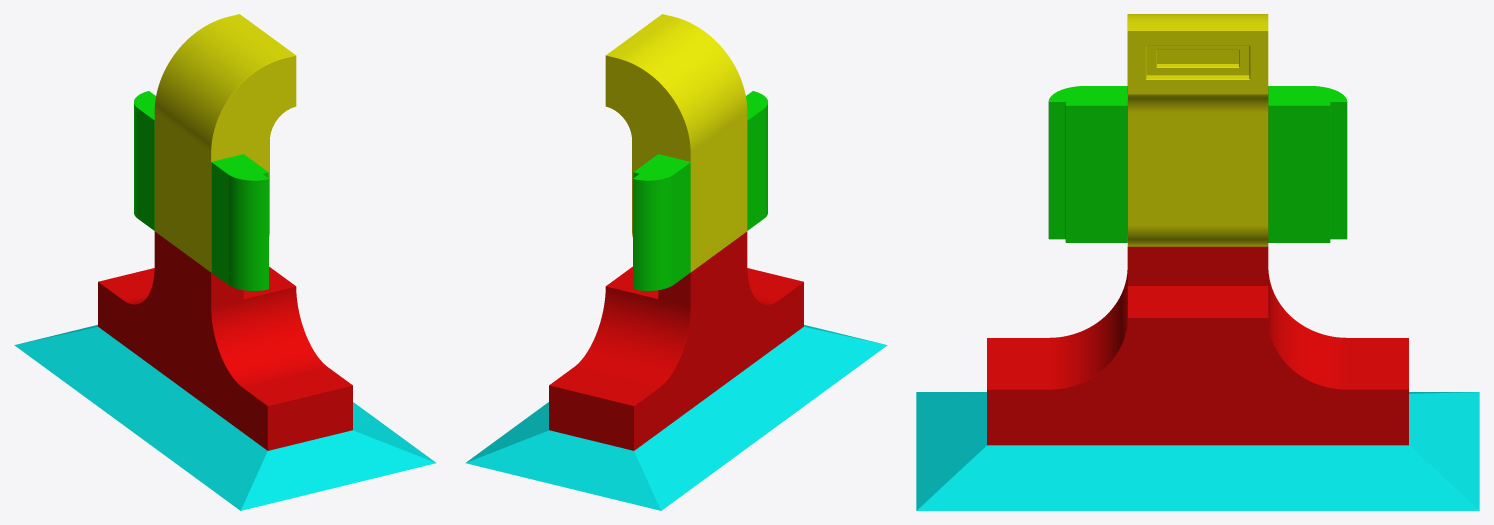
File: SM_Sculpture_01.fbx
3 renders of one model, left to right at view 1: azimuth 30°, elevation 25°; view 2: azimuth 150°, elevation 25°; view 3: azimuth 270°, elevation 25°, orthographic. The views are drawn at different scales.
Visible parts, largest first — view 1: polySurface190, pCube1127, polySurface191, polySurface188, polySurface189; view 2: polySurface190, pCube1127, polySurface191, polySurface189, polySurface188; view 3: polySurface190, pCube1127, polySurface191, polySurface188, polySurface189.
Part boxes in pixels (x1,y1,x2,y2): polySurface190: [98, 231, 352, 450]; pCube1127: [14, 325, 436, 510]; polySurface191: [154, 14, 296, 272]; polySurface188: [211, 154, 268, 290]; polySurface189: [134, 91, 155, 230]; polySurface190: [549, 231, 803, 450]; pCube1127: [465, 325, 887, 510]; polySurface191: [605, 14, 747, 272]; polySurface189: [633, 154, 690, 290]; polySurface188: [746, 91, 767, 230]; polySurface190: [987, 246, 1408, 445]; pCube1127: [916, 392, 1479, 510]; polySurface191: [1127, 14, 1268, 246]; polySurface188: [1048, 86, 1127, 242]; polySurface189: [1268, 86, 1347, 242].
Bounding box in the file's own units: 400 × 700 × 800.
